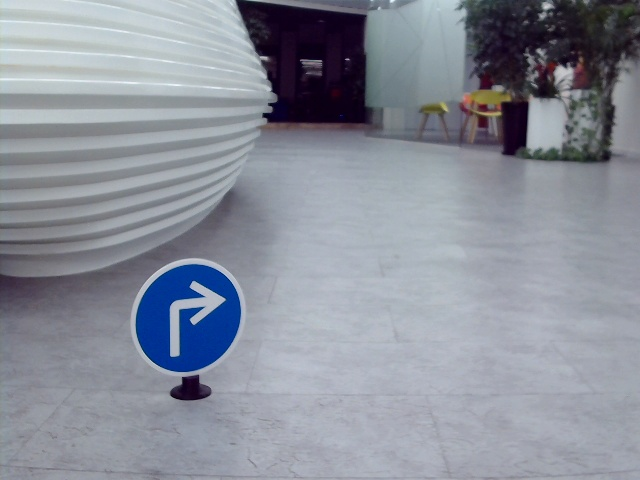turn_right: (164, 278, 222, 362)
